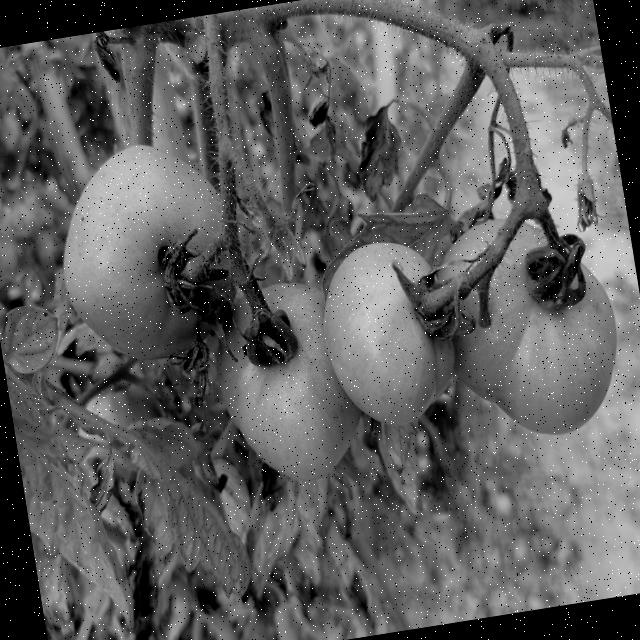Unripe: (44, 128, 253, 374), (430, 201, 629, 448), (203, 270, 365, 492), (311, 231, 463, 434)
